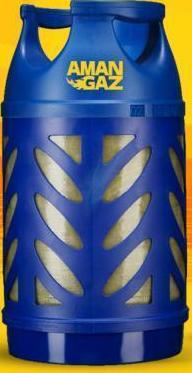cylinder: (1, 0, 192, 373)
